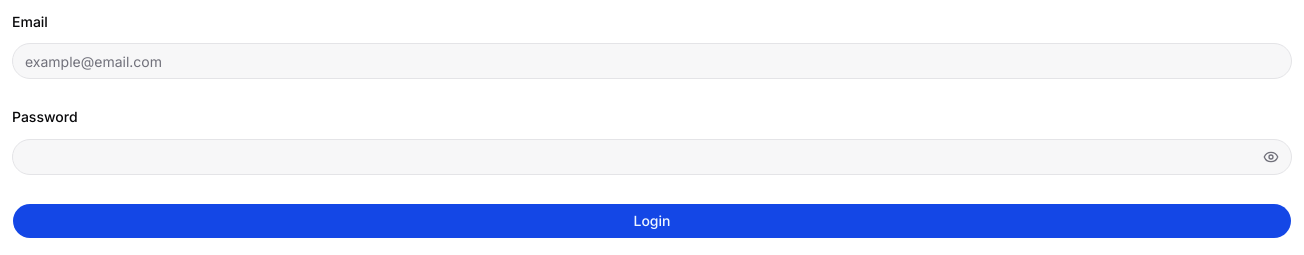
LoginForm › Render › should shows error toast when login is failed
This screenshot has width=1304, height=255.
Click the button "Login": click(652, 220) [12,202,1292,238]
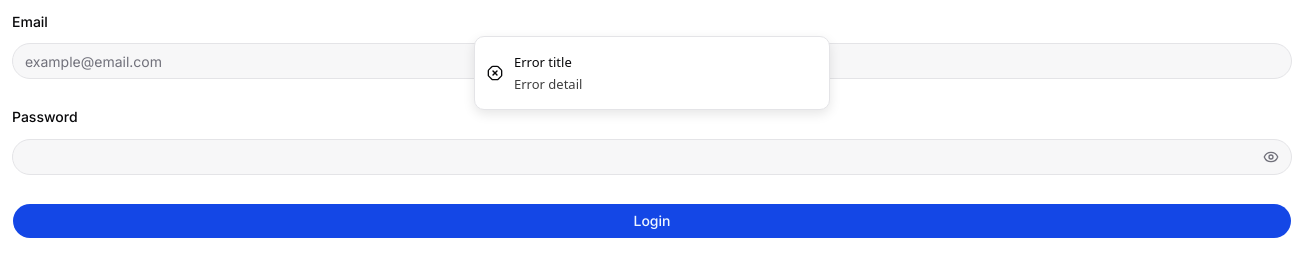
expect the text "Error title" is shown: met, box [514,53,572,71]
expect the text "Error detail" is shown: met, box [514,74,582,93]
